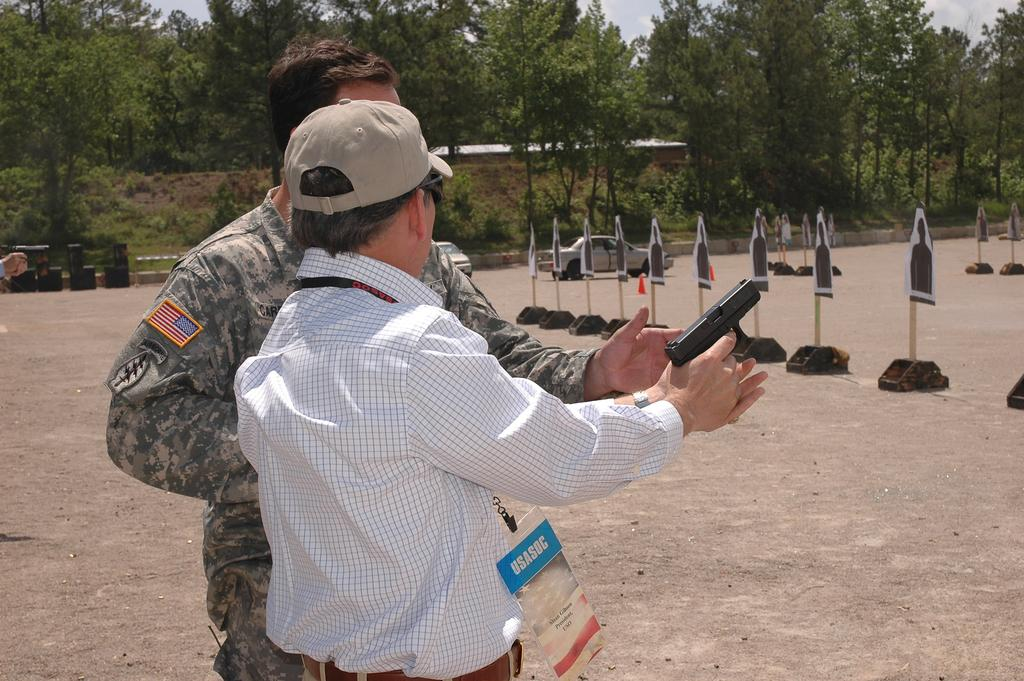Hat: (280, 93, 456, 216)
